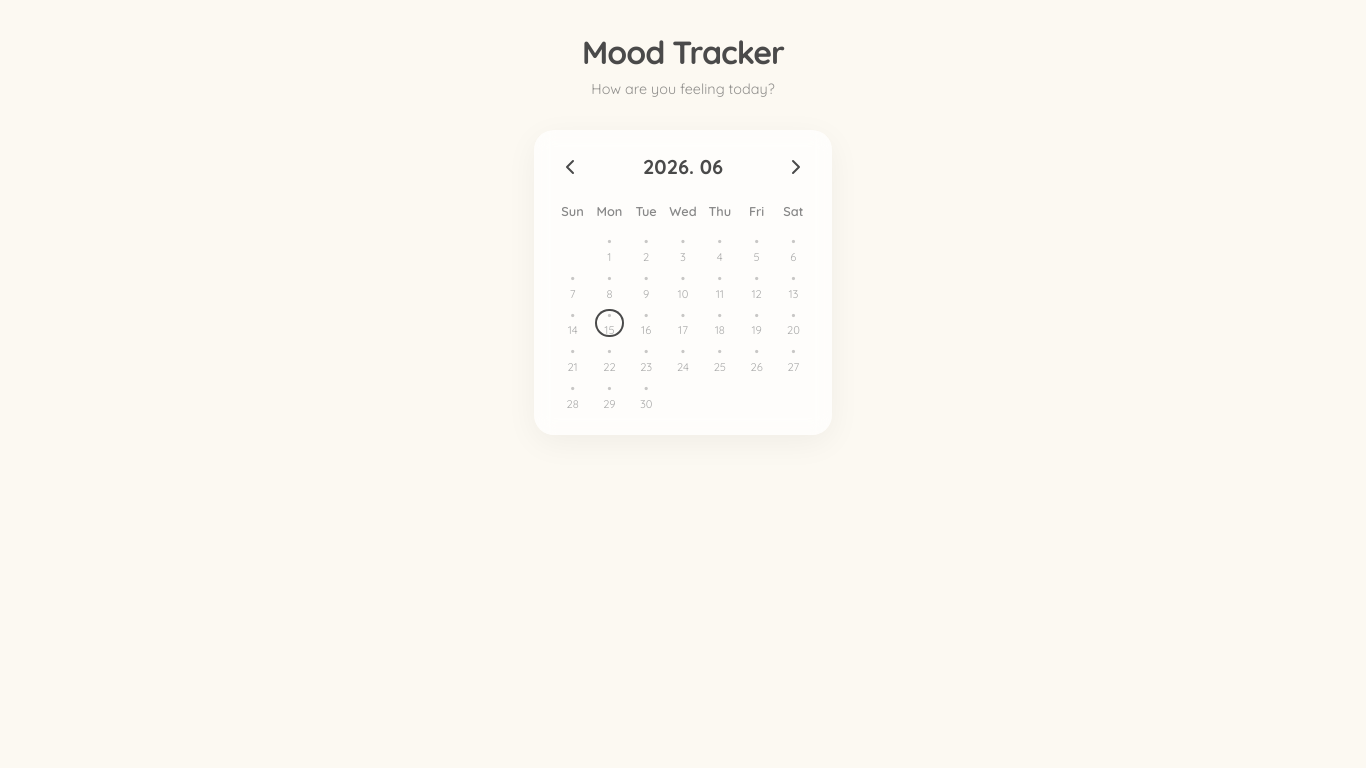
Test: Mood Tracker App › should show validation error when saving without mood or note
Step 1. Click the element with test id "cal-cell-2026-06-15" → (610, 324), box [595,309,624,338]
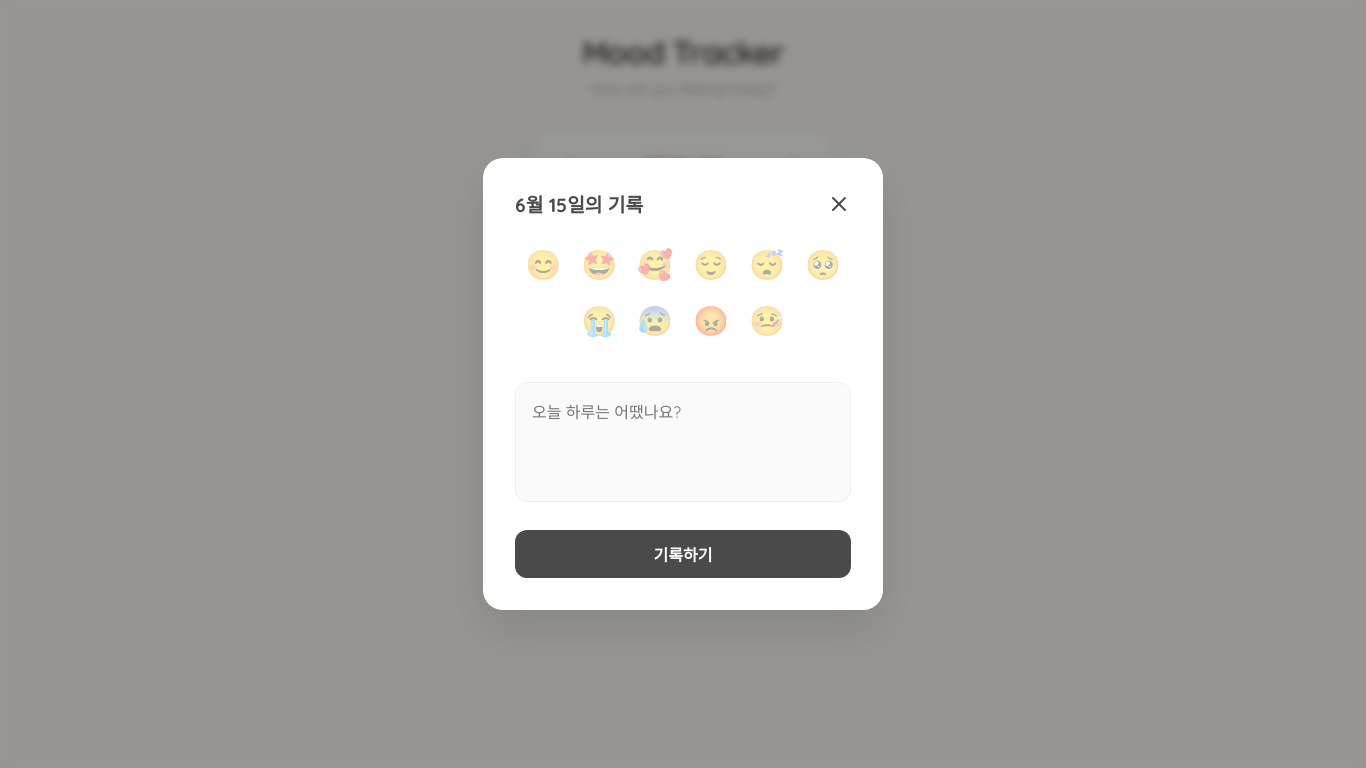
Note: Save directly without selecting mood
Step 2. Click the button with test id "save-btn" → (683, 554), box [515,530,851,578]
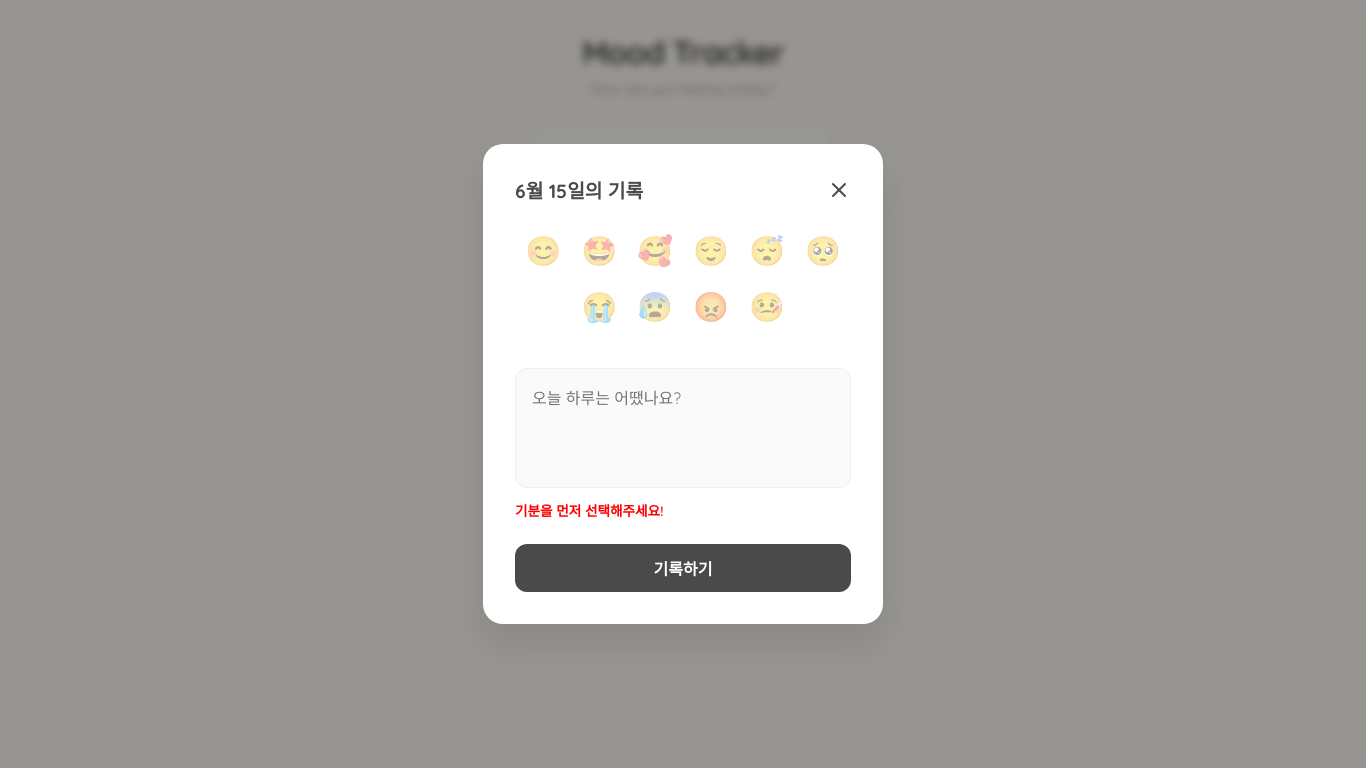
expect the text with test id "error-msg" reads "기분을 먼저 선택해주세요!": met, box [515,502,663,519]
Note: Select mood but no note
Step 3. Click the button with test id "mood-btn-happy" → (543, 250), box [521,228,565,272]
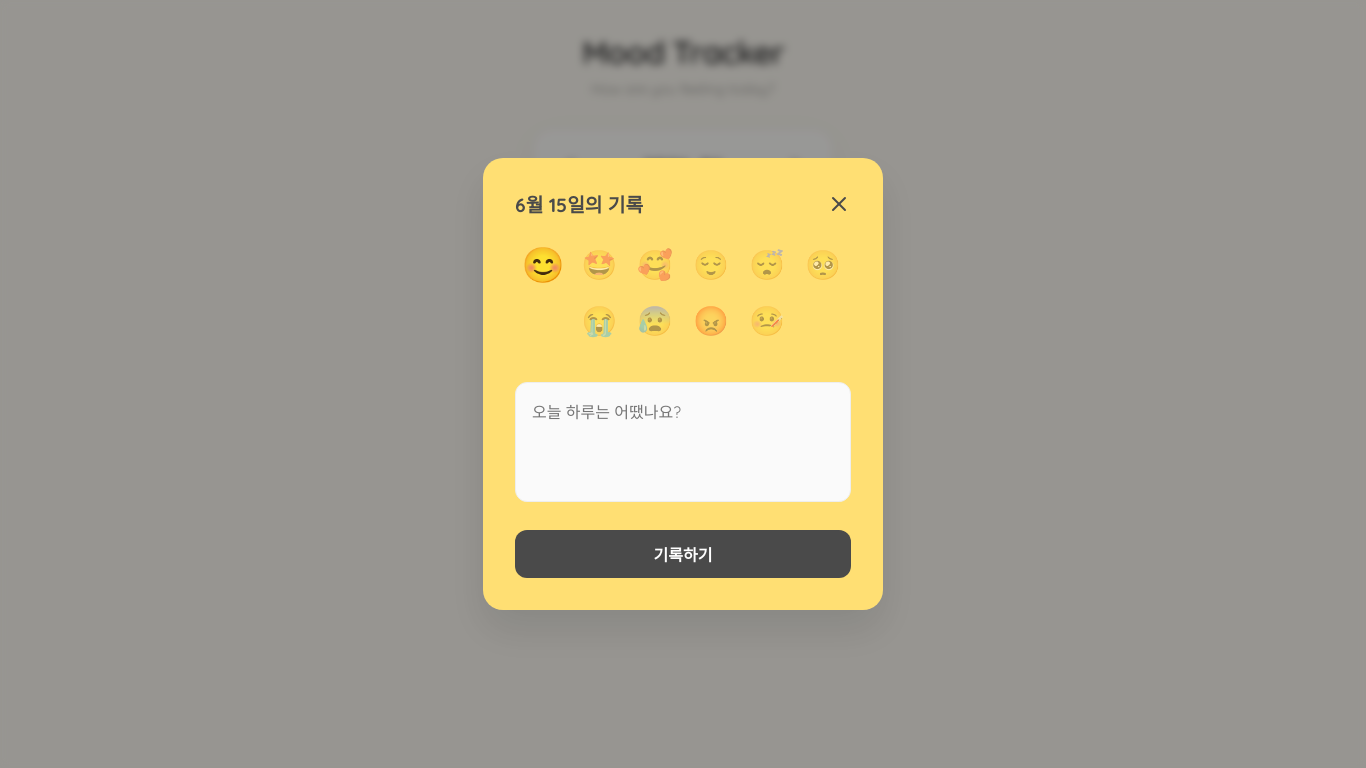
Step 4. Click the button with test id "save-btn" → (683, 554), box [515,530,851,578]
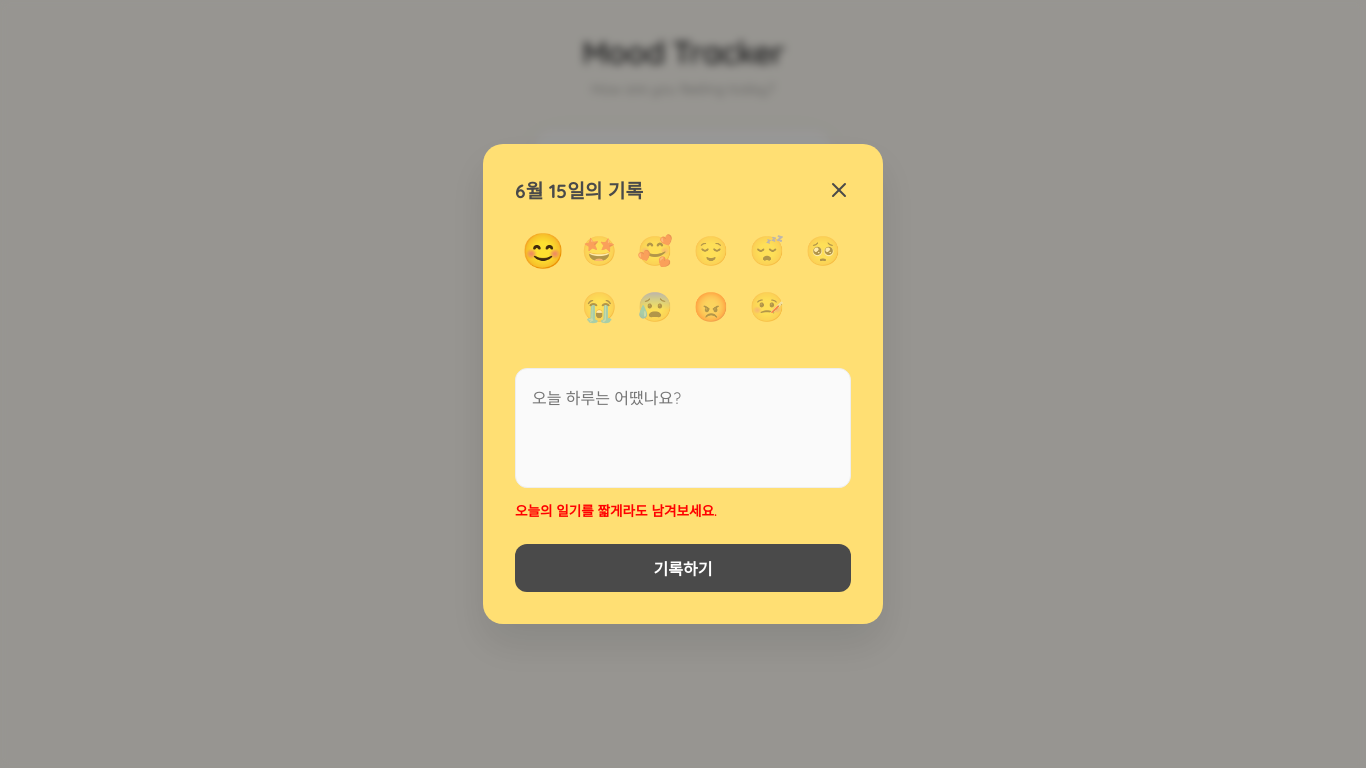
expect the text with test id "error-msg" reads "오늘의 일기를 짧게라도 남겨보세요.": met, box [515,502,717,519]
